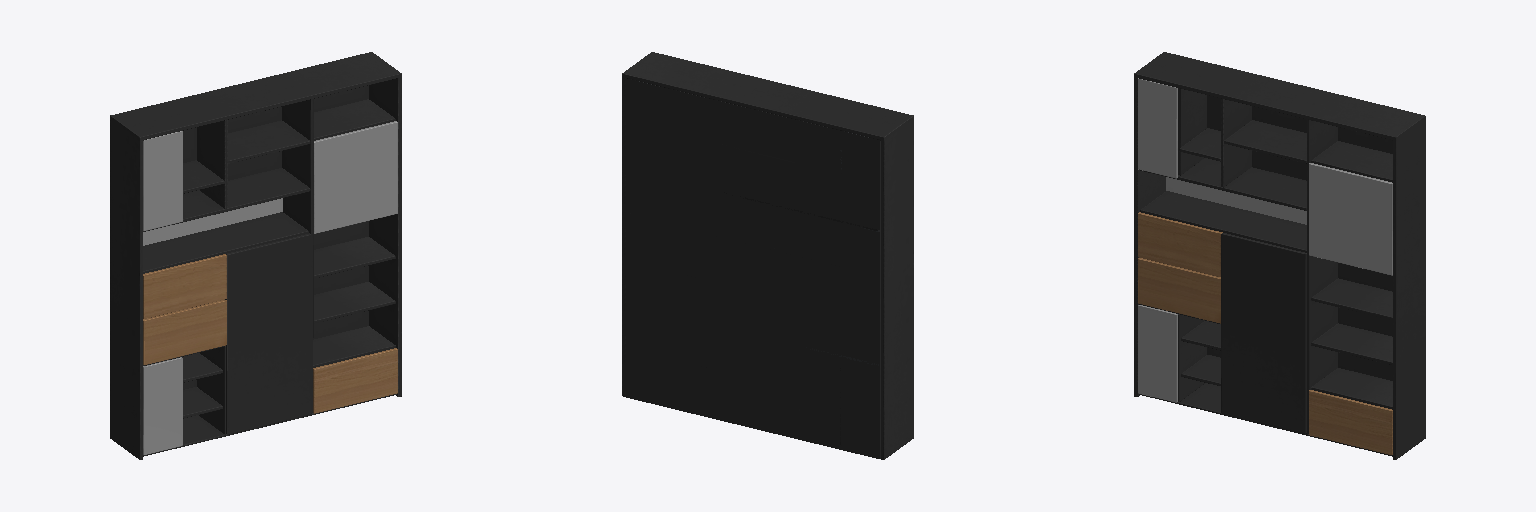
3 views of the same model, side by side, from view 1: azimuth 30°, elevation 25°; view 2: azimuth 150°, elevation 25°; view 3: azimuth 330°, elevation 25° (orthographic).
Visible parts, largest first — view 1: solid_001, solid_002, solid_003; view 2: solid_001; view 3: solid_001, solid_002, solid_003.
Boxes of the visible parts, x1=… form: solid_001: x1=110, y1=52, x2=401, y2=459; solid_002: x1=143, y1=121, x2=397, y2=454; solid_003: x1=143, y1=254, x2=397, y2=413; solid_001: x1=622, y1=52, x2=913, y2=459; solid_001: x1=1134, y1=52, x2=1425, y2=459; solid_002: x1=1138, y1=78, x2=1392, y2=402; solid_003: x1=1138, y1=212, x2=1392, y2=454.
Bounding box in the file's own units: 1.77 × 2.08 × 0.35.
Materials: 1 (1 with a texture image).